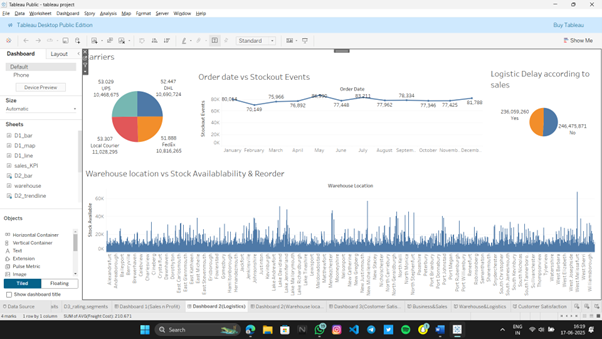

What the dashboard file says about the page in this screenshot:
{"tool":"tableau","page":{"name":"Dashboard 2(Logistics)","canvas":[1000,1000],"units":"permille","ordinal":1},"visuals":[{"type":"worksheet","title":"D2_PIE","mark":"Pie","box":[0,0,1000,1000]},{"type":"worksheet","title":"D2_pie","mark":"Pie","box":[784,72.4,208.8,333.3]},{"type":"worksheet","title":"D2_trendline","mark":"Automatic","rows":["Stockout_Events"],"cols":["Order_Date"],"box":[221.5,84.9,549.8,333.3]},{"type":"worksheet","title":"D2_bar","mark":"Automatic","rows":["Stock_Available"],"cols":["Warehouse_Location"],"box":[4.2,469.4,982.5,514.4]}]}

Visuals, with their boxes on the dashboard's canvas, which has no fixed pixel size, in thousandths of its width and height (x1, y1, x2, y2). These are canvas units, not pixel positions in the 602x339 screenshot, which may show the page scaled, cropped or inside an application window:
"D2_PIE" worksheet (Pie marks): l=0, t=0, r=1000, b=1000
"D2_pie" worksheet (Pie marks): l=784, t=72, r=993, b=406
"D2_trendline" worksheet: l=222, t=85, r=771, b=418
"D2_bar" worksheet: l=4, t=469, r=987, b=984
